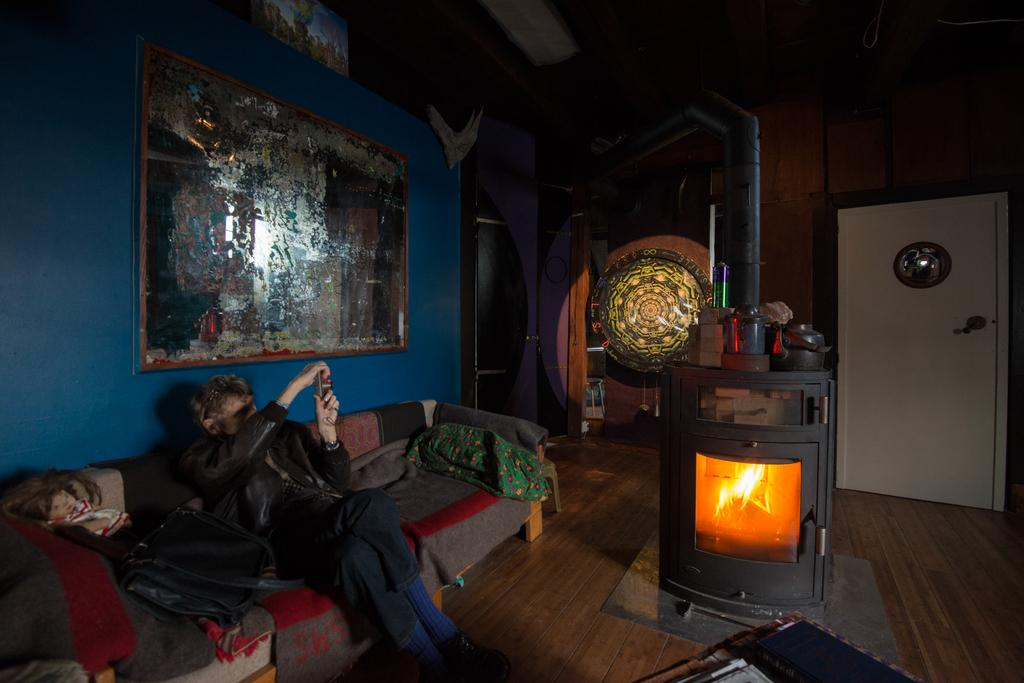Fire: (699, 460, 795, 535)
